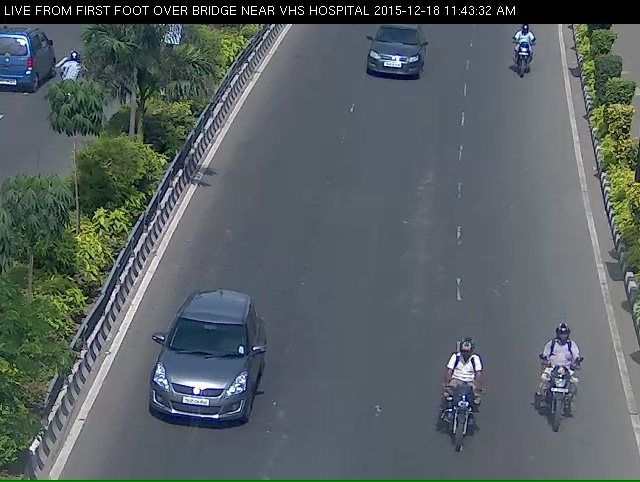Car: (130, 315, 267, 464), (358, 26, 429, 100)
Person: (422, 369, 492, 480), (537, 342, 586, 463), (511, 29, 541, 88)
